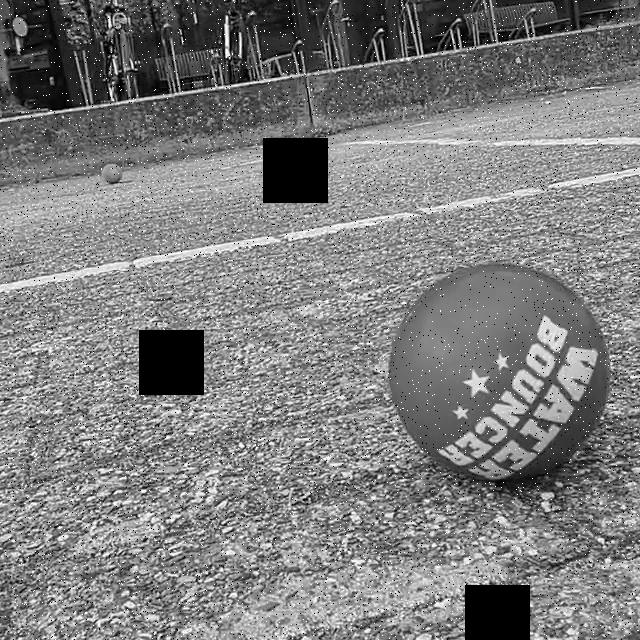ball: (98, 159, 126, 190)
